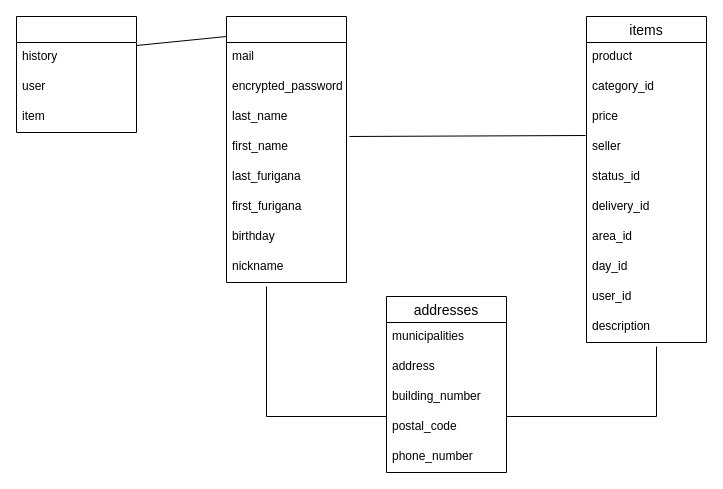
This 723x489 diagram has some shape labels left out. Each missing label, with the box of its shape:
historys: (16, 16, 136, 132)
users: (226, 16, 346, 282)
